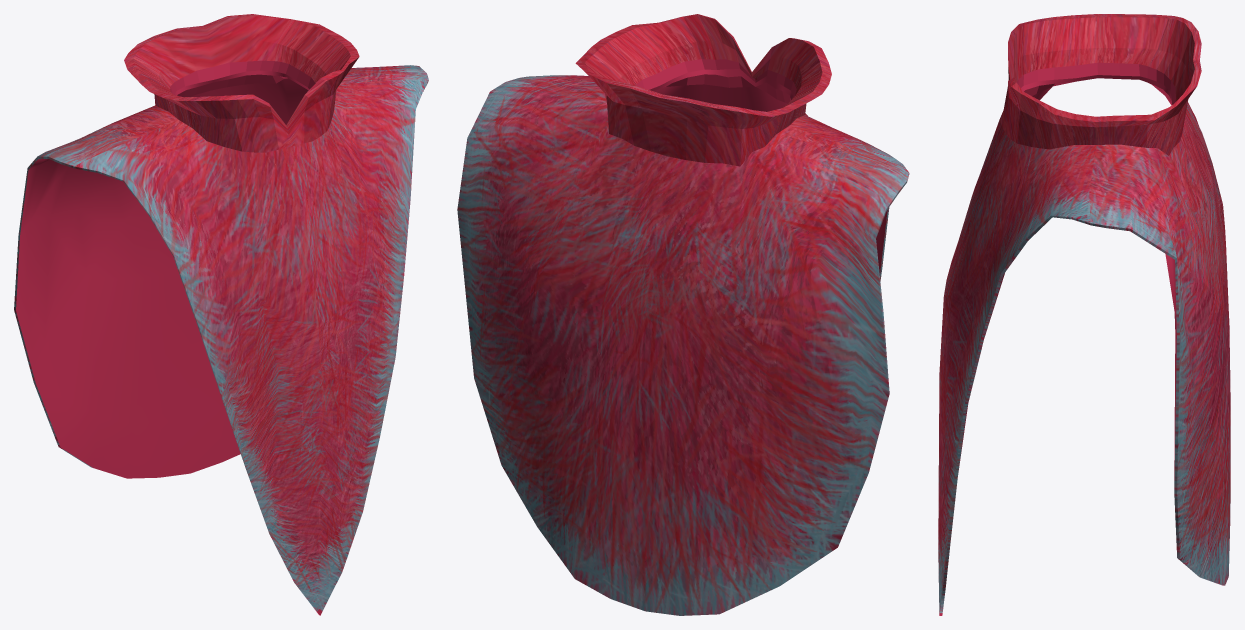
The model's file is cloakfurred.FBX.
3 renders of one model, left to right at view 1: azimuth 30°, elevation 25°; view 2: azimuth 150°, elevation 25°; view 3: azimuth 270°, elevation 25°, orthographic. The views are drawn at different scales.
Parts seen in each view (by area): view 1: Circle027; view 2: Circle027; view 3: Circle027.
Part boxes in pixels (<box>): Circle027: <box>14,14,428,615</box>; Circle027: <box>457,14,909,615</box>; Circle027: <box>938,14,1230,615</box>.
Size of the model in its own units: 41.57 by 51.56 by 24.4.
1 material, 1 textured.
